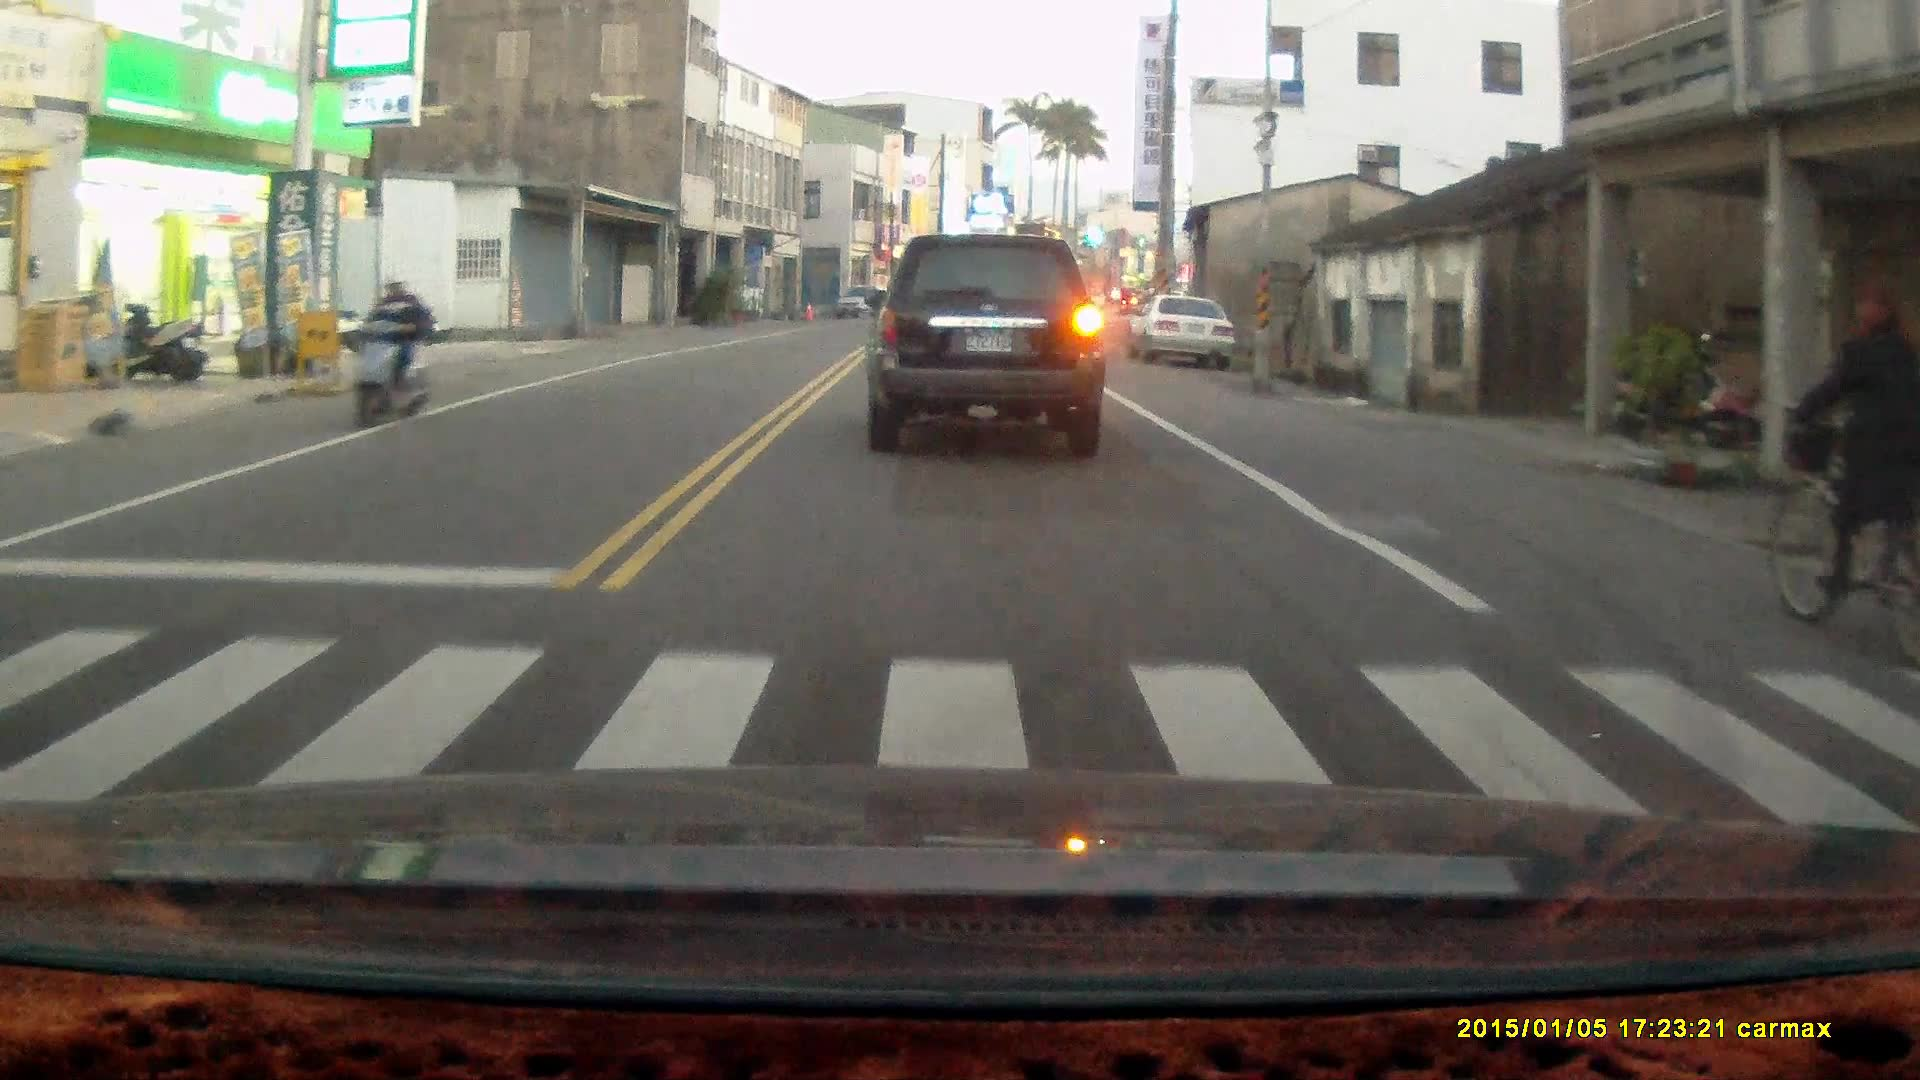rider: (1763, 278, 1920, 636), (342, 268, 432, 429)
vehicle: (866, 232, 1109, 457), (1130, 295, 1239, 367)
